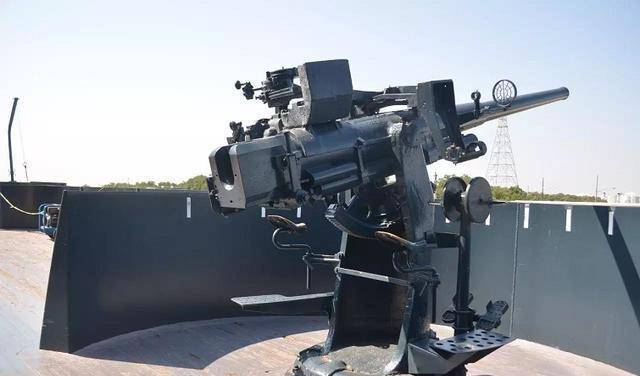MIL_SPG: (209, 60, 569, 376)
